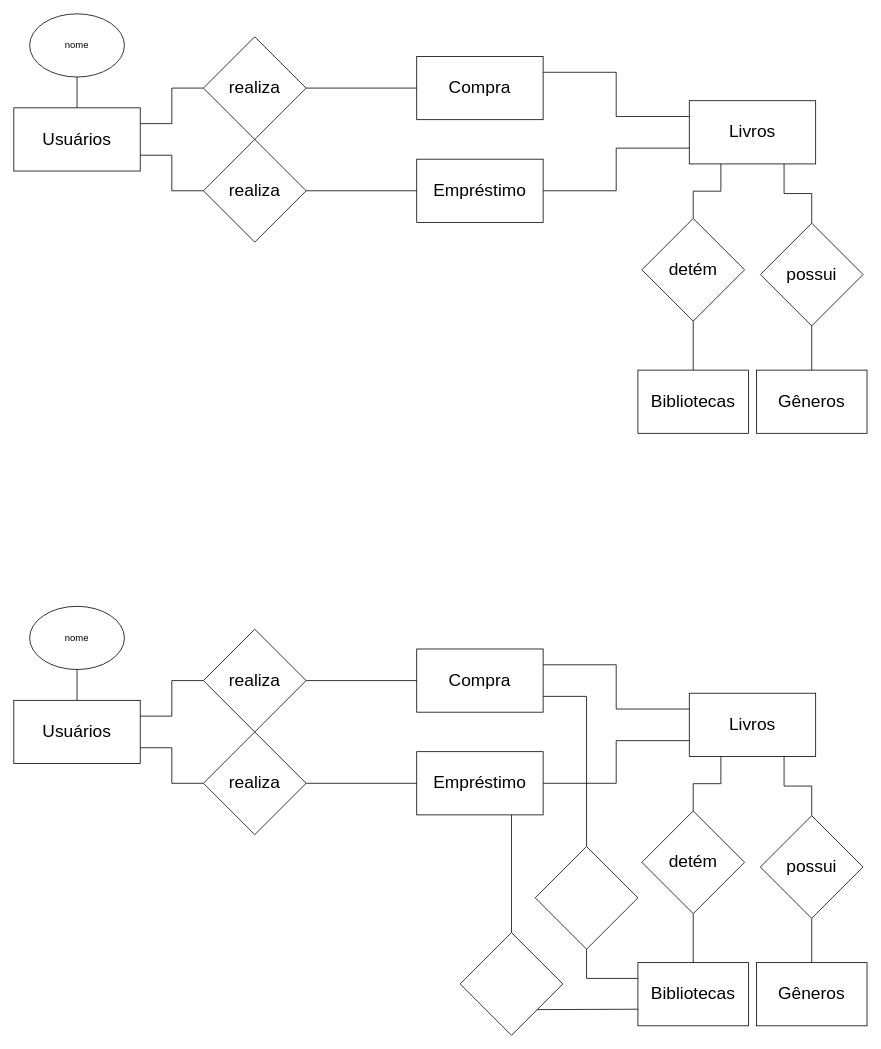
The diagram is 881 pixels wide and 1049 high, and some of its shapes have lost their labels. The centre of each missing label's shape, as x and y in pixels:
é comprado: the point at 586,897
é emprestado: the point at 511,983
